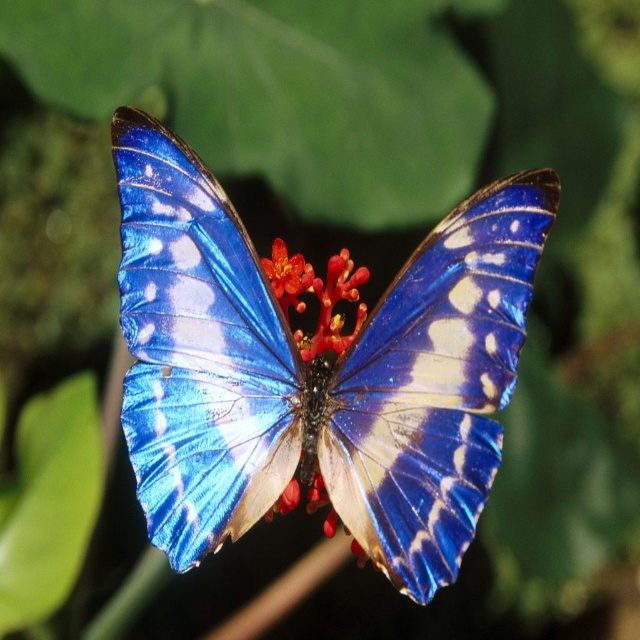Butterfly: (111, 106, 562, 603)
